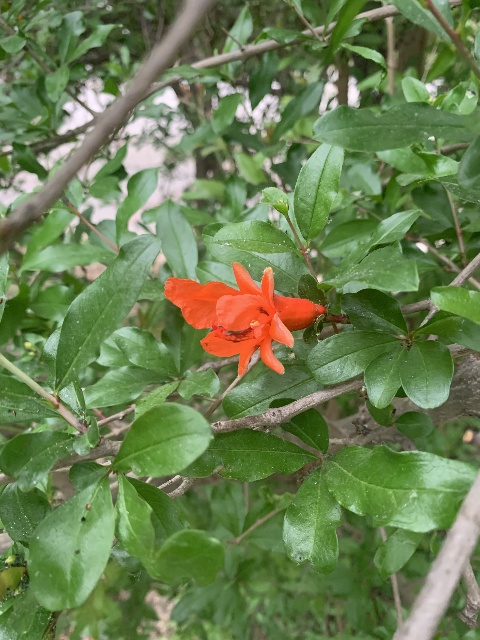flower: (164, 261, 325, 378)
